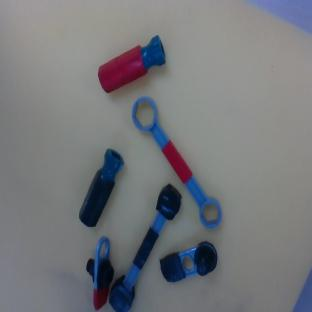part_1_bad: (157, 239, 221, 284)
part_1_good: (82, 235, 119, 311)
part_2_bad: (75, 147, 127, 229)
part_2_good: (92, 34, 171, 96)
part_3_bad: (103, 181, 188, 312)
part_3_good: (124, 93, 228, 234)
